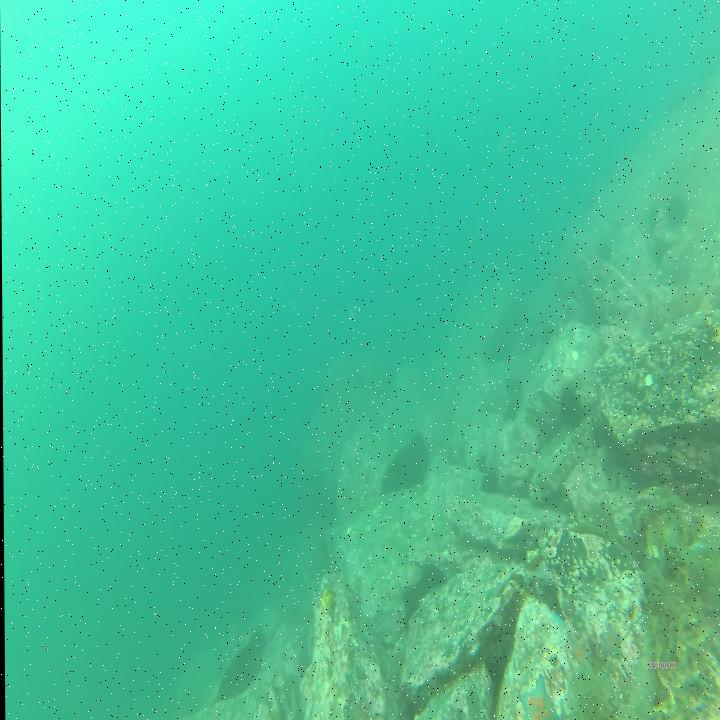echinus: (556, 382, 582, 429)
starfish: (517, 673, 559, 720)
